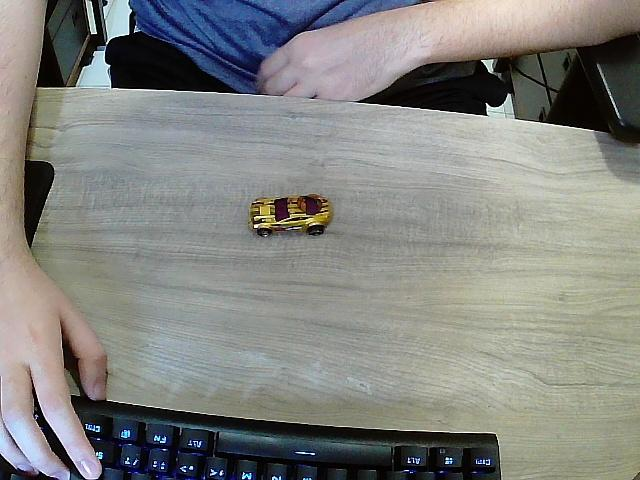Carro: (249, 195, 334, 238)
